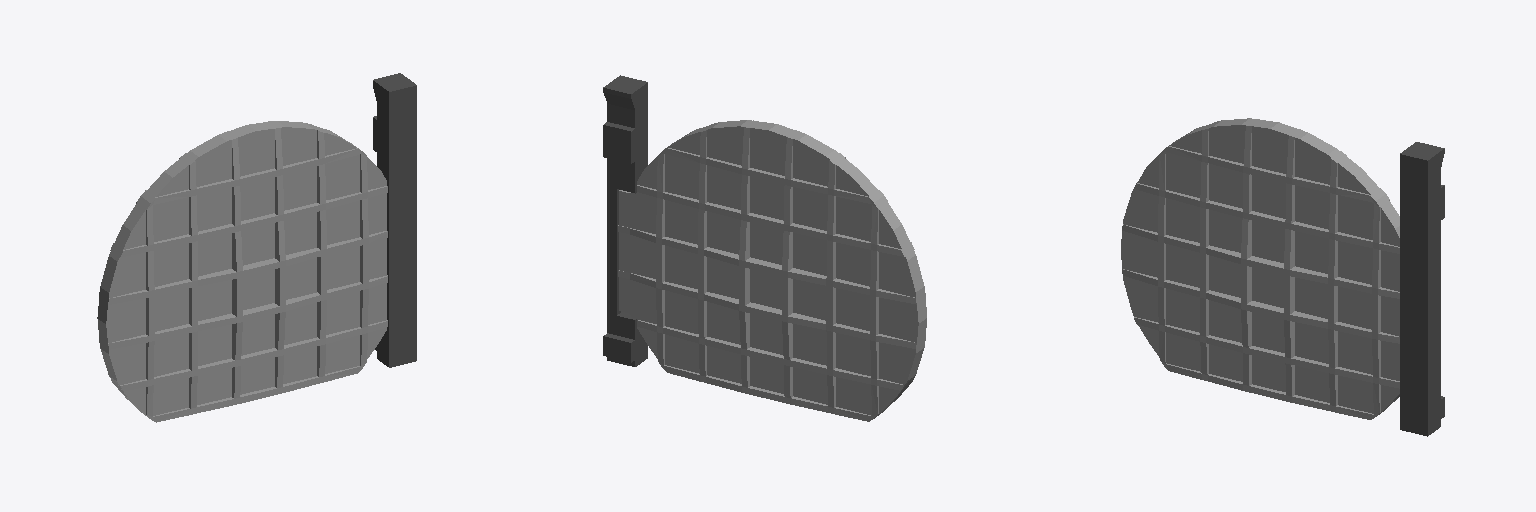
Rendered from water_gate.obj.
3 views of the same model, side by side, from view 1: azimuth 30°, elevation 25°; view 2: azimuth 150°, elevation 25°; view 3: azimuth 330°, elevation 25° (orthographic).
Parts seen in each view (by area): view 1: zelezna_vrata_Plane.001, zelezna_vrata_nosilec_Cube.004; view 2: zelezna_vrata_Plane.001, zelezna_vrata_nosilec_Cube.004; view 3: zelezna_vrata_Plane.001, zelezna_vrata_nosilec_Cube.004.
Boxes of the visible parts, <box> form: zelezna_vrata_Plane.001: <box>97,121,387,422</box>; zelezna_vrata_nosilec_Cube.004: <box>373,73,416,367</box>; zelezna_vrata_Plane.001: <box>618,120,926,421</box>; zelezna_vrata_nosilec_Cube.004: <box>603,75,647,366</box>; zelezna_vrata_Plane.001: <box>1121,118,1399,419</box>; zelezna_vrata_nosilec_Cube.004: <box>1400,142,1444,436</box>.
Size of the model in its own units: 4.28 by 3.65 by 0.4815.